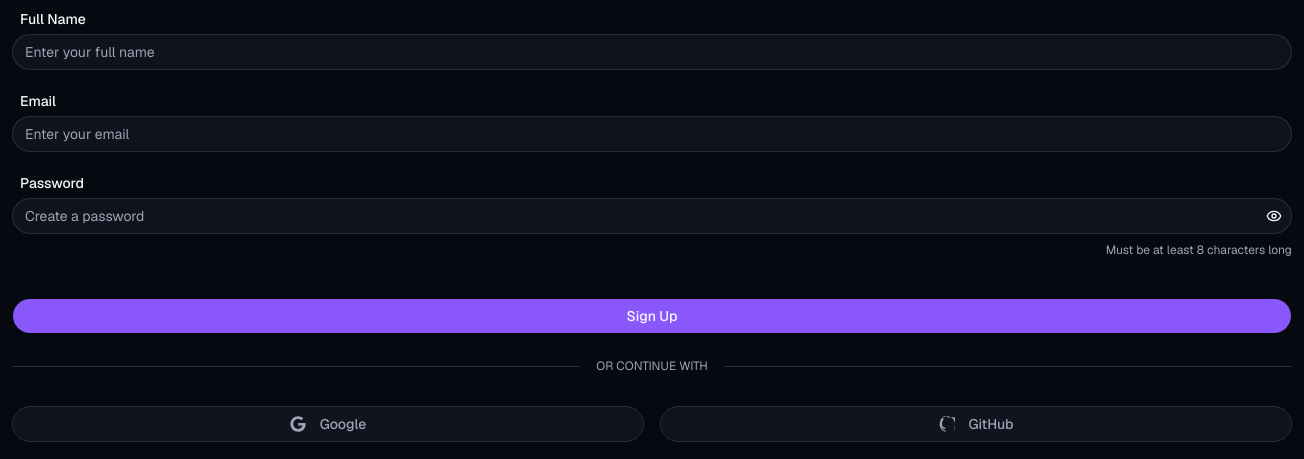
Test: SignUpForm — social sign-in › disables other fields and buttons when a social sign-in is pending
Click the button "Google". click: (328,424)
box: [12,406,644,442]
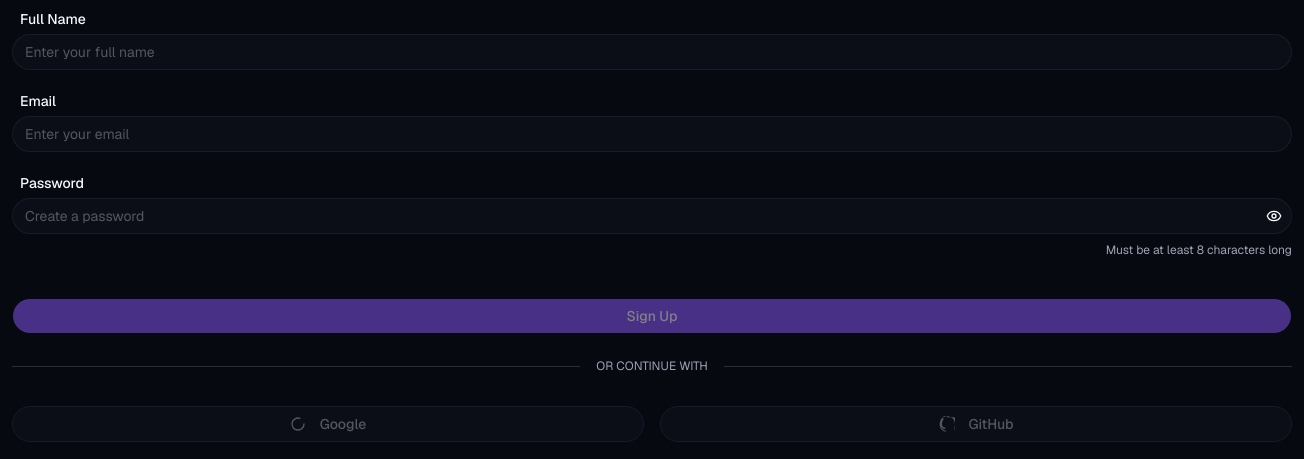
Now the field labelled "Full Name" is disabled, box [12,34,1292,70]
Now the field labelled "Email" is disabled, box [12,116,1292,152]
Now the password field named "password" is disabled, box [12,198,1292,234]
